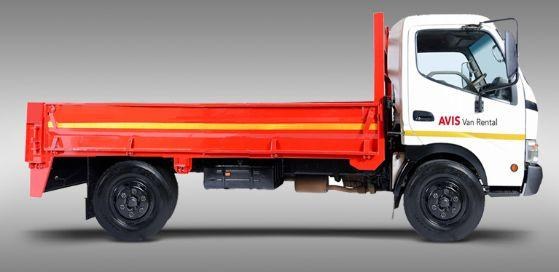truck: (24, 11, 542, 242)
